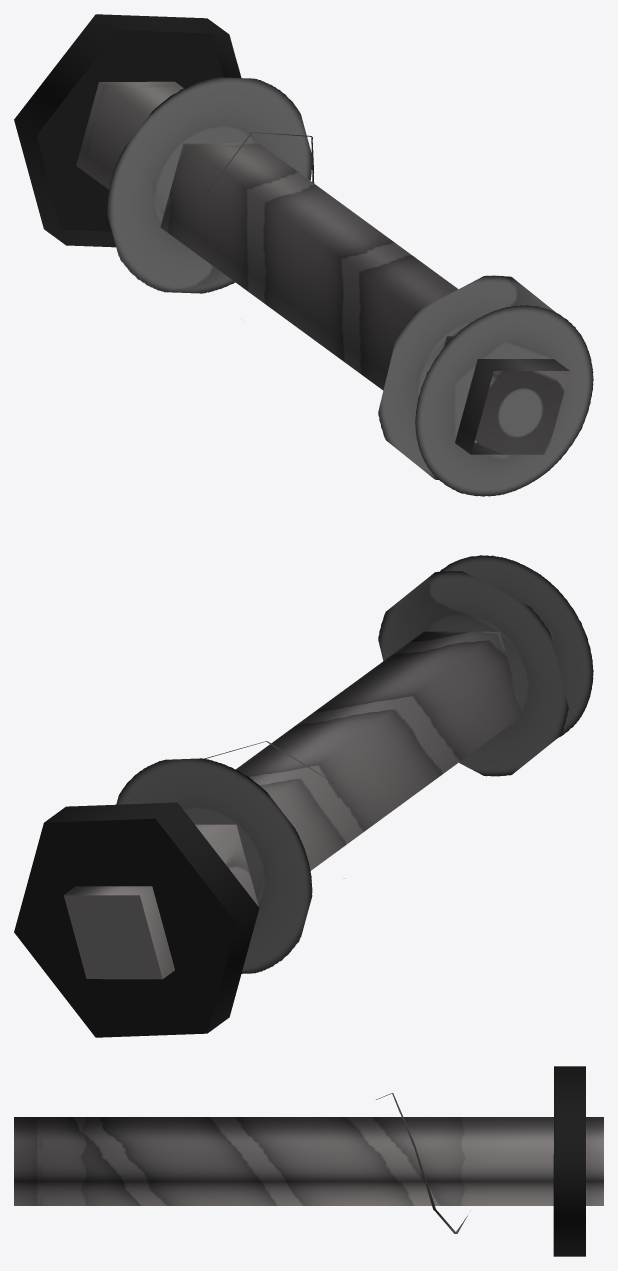
The model's file is obj_interactive_suspensionoffroad_02_off_lod1.fbx.
3 renders of one model, top to bottom at view 1: azimuth 30°, elevation 25°; view 2: azimuth 150°, elevation 25°; view 3: azimuth 270°, elevation 25°, orthographic. The views are drawn at different scales.
Visible parts, largest first — view 1: obj_interactive_suspensionoffroad_02_off_lod1; view 2: obj_interactive_suspensionoffroad_02_off_lod1; view 3: obj_interactive_suspensionoffroad_02_off_lod1.
Boxes of the visible parts, x1,y1,x2,y2 form: obj_interactive_suspensionoffroad_02_off_lod1: [14, 14, 593, 496]; obj_interactive_suspensionoffroad_02_off_lod1: [14, 555, 593, 1037]; obj_interactive_suspensionoffroad_02_off_lod1: [14, 1066, 603, 1256].
Bounding box in the file's own units: 1.02 × 1.02 × 3.23.
1 material, 1 textured.
